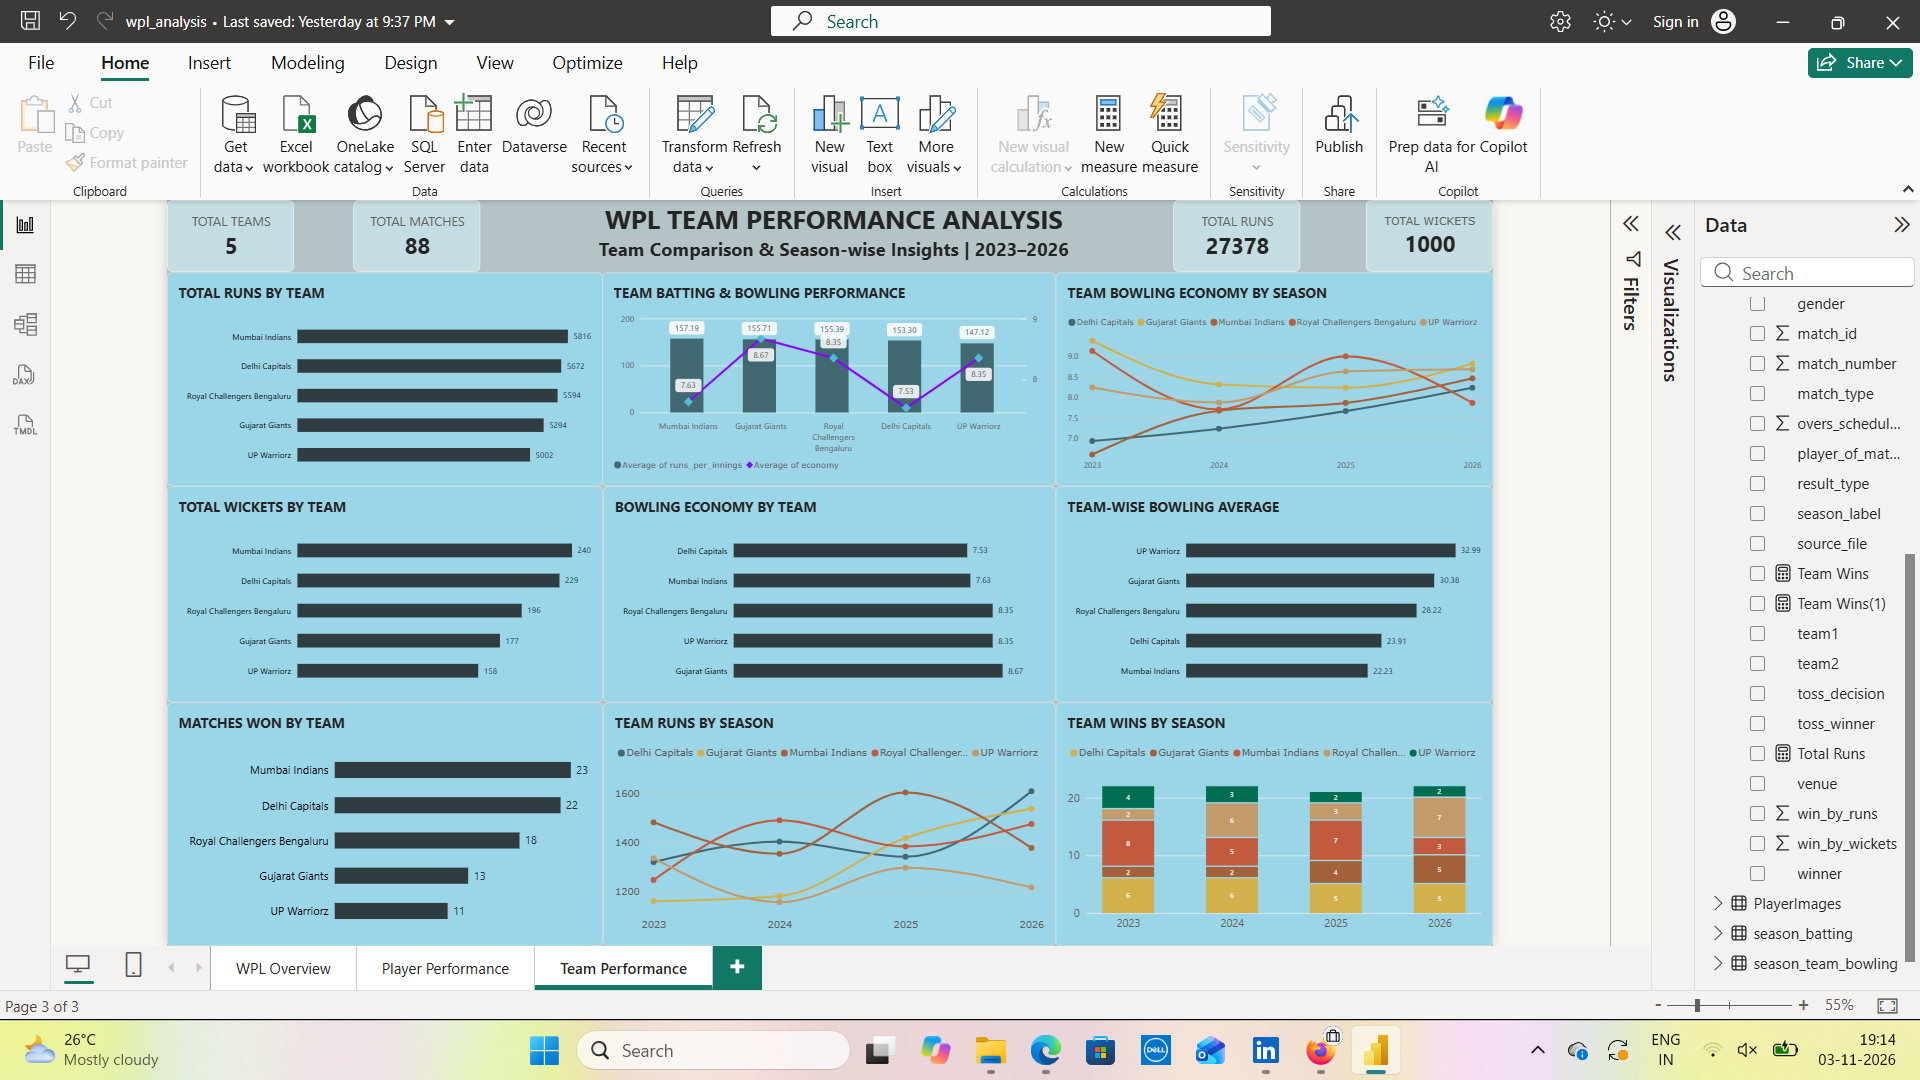

The page's visual inventory and layout, read from the dashboard file:
{"tool":"powerbi","page":{"name":"Team Performance","canvas":[1920,1080],"ordinal":2},"visuals":[{"type":"textbox","box":[10.9,0,1909.2,105],"z":0},{"type":"cardVisual","fields":{"Data":["team_performance.Total Teams"]},"box":[0,0,184.6,105],"z":1000},{"type":"cardVisual","fields":{"Data":["matches_cleaned.Total Runs"]},"box":[1418.8,0,184.6,105],"z":2000},{"type":"cardVisual","fields":{"Data":["team_performance.Total Wickets"]},"box":[1735.5,0,184.6,105],"z":3000},{"type":"cardVisual","fields":{"Data":["team_performance.Total Matches"]},"box":[316.7,0,184.6,105],"z":4000},{"type":"clusteredBarChart","title":"TOTAL RUNS BY TEAM","fields":{"Category":["team_performance.team"],"Y":["Sum(team_performance.total_runs)"]},"box":[0,105,631.6,309.5],"z":5000},{"type":"clusteredBarChart","title":"TOTAL WICKETS BY TEAM","fields":{"Category":["team_performance.team"],"Y":["Sum(team_performance.wickets)"]},"box":[0,414.4,631.6,313.1],"z":6000},{"type":"clusteredBarChart","title":"MATCHES WON BY TEAM","fields":{"Category":["matches_cleaned.winner"],"Y":["matches_cleaned.Team Wins(1)"]},"box":[0,727.5,631.6,352.9],"z":7000},{"type":"clusteredBarChart","title":"BOWLING ECONOMY BY TEAM","fields":{"Category":["team_performance.team"],"Y":["Avg(team_performance.economy)"]},"box":[631.6,414.4,655.1,313.1],"z":8000},{"type":"lineChart","title":"TEAM RUNS BY SEASON","fields":{"Category":["season_batting.season_label"],"Series":["season_batting.team"],"Y":["Sum(season_batting.total_runs)"]},"box":[631.6,727.5,655.1,352.9],"z":9000},{"type":"lineClusteredColumnComboChart","title":"TEAM BATTING & BOWLING PERFORMANCE","fields":{"Category":["team_performance.team"],"Y":["Avg(team_performance.runs_per_innings)"],"Y2":["Avg(team_performance.economy)"]},"box":[629.8,105,656.9,309.5],"z":10000},{"type":"lineChart","title":"TEAM BOWLING ECONOMY BY SEASON","fields":{"Category":["season_team_bowling.season_label"],"Series":["season_team_bowling.team"],"Y":["Avg(season_team_bowling.economy)"]},"box":[1286.7,105,633.4,309.5],"z":11000},{"type":"clusteredBarChart","title":"TEAM-WISE BOWLING AVERAGE","fields":{"Category":["team_performance.team"],"Y":["team_performance.Team Bowling Average"]},"box":[1287,414,633,313],"z":12000},{"type":"columnChart","title":"TEAM WINS BY SEASON","fields":{"Category":["matches_cleaned.season_label"],"Series":["matches_cleaned.winner"],"Y":["matches_cleaned.Team Wins(1)"]},"box":[1287,727,633,353],"z":13000}]}

Visuals, with their boxes on the page's 1920x1080 design canvas (x1, y1, x2, y2). These are canvas units, not pixel positions in the 1920x1080 screenshot, which may show the page scaled, cropped or inside an application window:
textbox: [11,0,1920,105]
cardVisual - team_performance.Total Teams: [0,0,185,105]
cardVisual - matches_cleaned.Total Runs: [1419,0,1603,105]
cardVisual - team_performance.Total Wickets: [1736,0,1920,105]
cardVisual - team_performance.Total Matches: [317,0,501,105]
"TOTAL RUNS BY TEAM" clusteredBarChart: [0,105,632,414]
"TOTAL WICKETS BY TEAM" clusteredBarChart: [0,414,632,728]
"MATCHES WON BY TEAM" clusteredBarChart: [0,728,632,1080]
"BOWLING ECONOMY BY TEAM" clusteredBarChart: [632,414,1287,728]
"TEAM RUNS BY SEASON" lineChart: [632,728,1287,1080]
"TEAM BATTING & BOWLING PERFORMANCE" lineClusteredColumnComboChart: [630,105,1287,414]
"TEAM BOWLING ECONOMY BY SEASON" lineChart: [1287,105,1920,414]
"TEAM-WISE BOWLING AVERAGE" clusteredBarChart: [1287,414,1920,727]
"TEAM WINS BY SEASON" columnChart: [1287,727,1920,1080]
